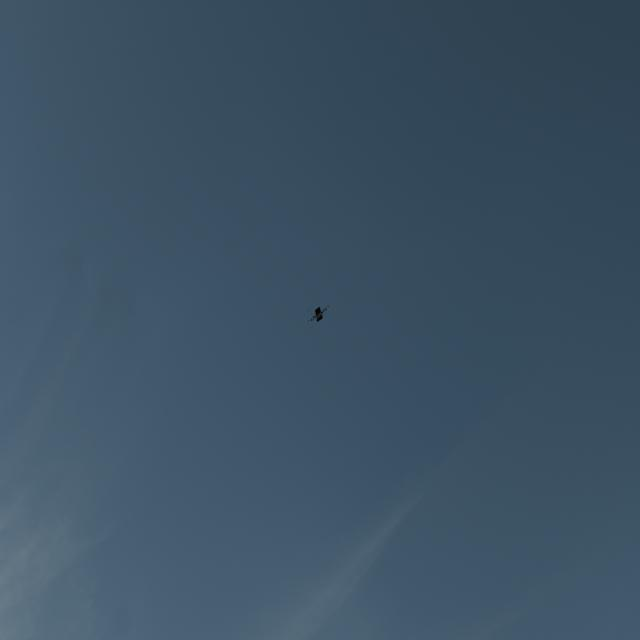drone: (304, 295, 332, 330)
